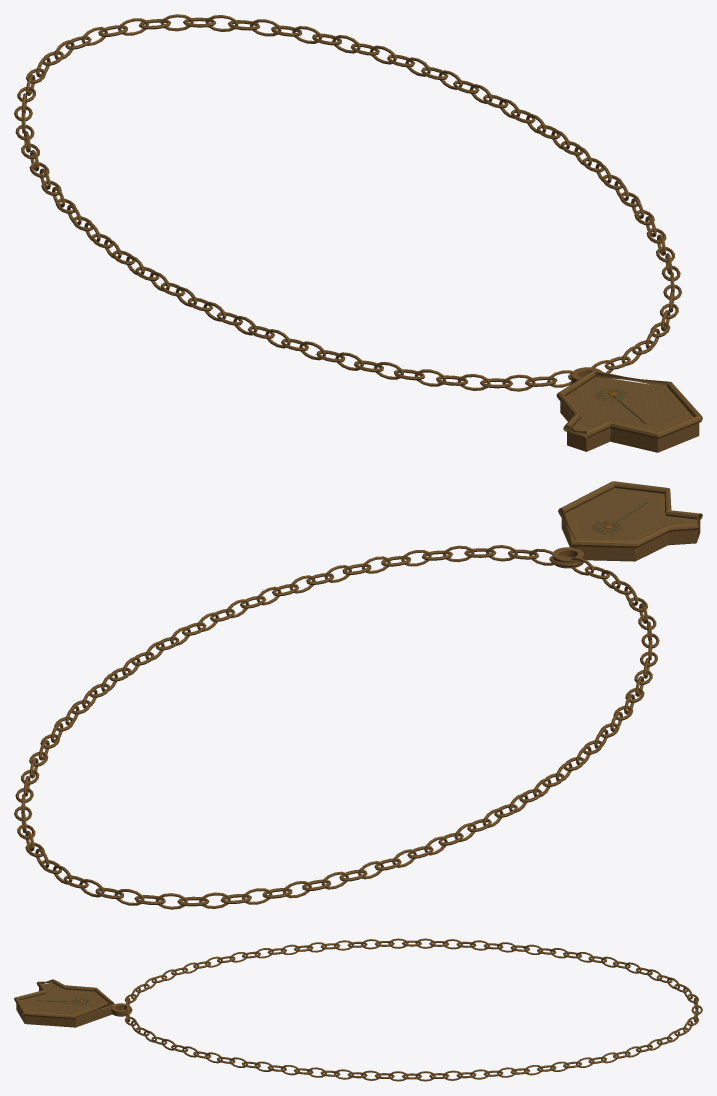
Rendered from D02_Pendant.fbx.
3 renders of one model, top to bottom at view 1: azimuth 30°, elevation 25°; view 2: azimuth 150°, elevation 25°; view 3: azimuth 270°, elevation 25°, orthographic. The views are drawn at different scales.
Visible parts, largest first — view 1: ChainLinks, PendantBody_Mesh, MetalBezel_Mesh; view 2: ChainLinks, PendantBody_Mesh, MetalBezel_Mesh; view 3: ChainLinks, PendantBody_Mesh, MetalBezel_Mesh.
Boxes of the visible parts, x1=… form: ChainLinks: x1=14, y1=14, x2=681, y2=391; PendantBody_Mesh: x1=560, y1=377, x2=699, y2=452; MetalBezel_Mesh: x1=556, y1=370, x2=702, y2=439; ChainLinks: x1=14, y1=545, x2=659, y2=909; PendantBody_Mesh: x1=561, y1=488, x2=700, y2=561; MetalBezel_Mesh: x1=558, y1=481, x2=702, y2=548; ChainLinks: x1=121, y1=938, x2=702, y2=1081; PendantBody_Mesh: x1=16, y1=983, x2=112, y2=1027; MetalBezel_Mesh: x1=14, y1=979, x2=114, y2=1019.
Bounding box in the file's own units: 0.1148 × 0.00558 × 0.2428.
